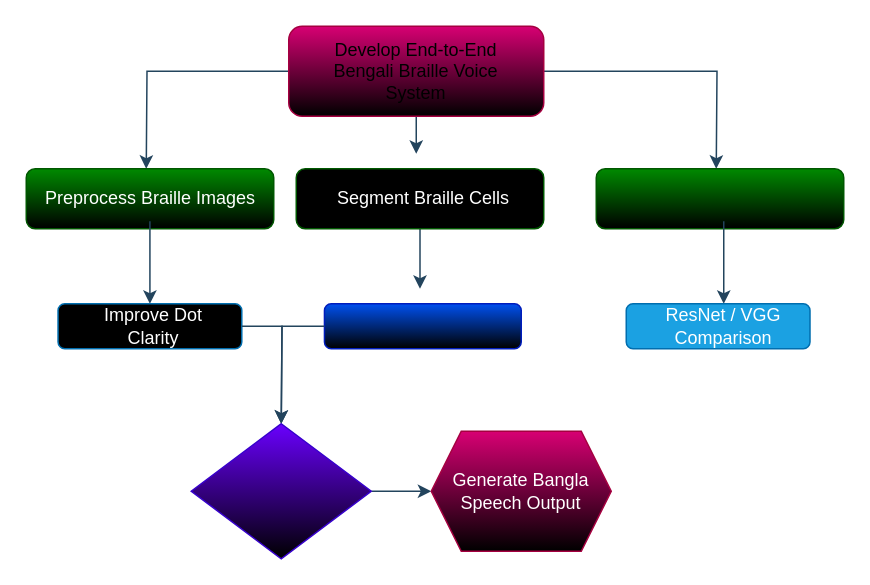
Image size: 870x585. Some labels were removed from this diagram. The centre of each missing label's shape, as x and y in pixels:
"Text Mapping to Bangla Unicode" belongs at point 280,490.
"Train Classifier Models" belongs at point 719,198.
"U-Net/Manual Grid" belongs at point 422,325.
